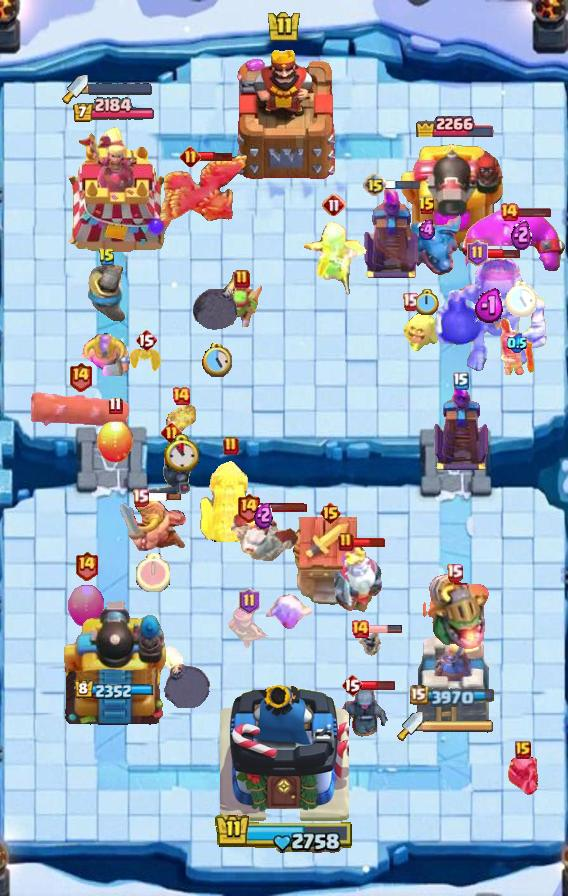archer: (226, 607, 272, 651)
bar: (258, 502, 308, 513), (385, 178, 422, 191), (516, 206, 552, 218), (361, 679, 396, 691), (485, 248, 521, 259), (198, 151, 234, 162), (352, 537, 386, 548), (367, 624, 403, 634), (146, 492, 182, 502)
bar-level: (74, 550, 99, 581), (236, 492, 261, 523), (68, 361, 93, 392), (322, 193, 346, 217), (363, 173, 387, 197), (319, 501, 342, 525), (239, 588, 260, 614), (467, 240, 488, 266), (341, 673, 363, 697), (135, 328, 157, 352), (161, 422, 182, 443), (180, 146, 201, 167), (350, 619, 370, 639), (171, 386, 191, 406), (499, 202, 519, 222), (98, 247, 116, 267), (418, 196, 436, 216), (446, 563, 463, 582), (132, 488, 149, 507), (402, 292, 419, 311), (338, 532, 354, 552), (223, 436, 239, 456), (234, 269, 250, 289), (515, 741, 531, 759), (453, 372, 469, 390), (108, 396, 123, 415)
bat: (129, 345, 163, 373)
bomb: (159, 646, 211, 708), (192, 270, 243, 332)
cannoneer-tower: (58, 595, 170, 731), (399, 138, 507, 256)
clock: (164, 434, 199, 472), (136, 553, 170, 592), (505, 281, 537, 317), (202, 343, 232, 377), (416, 289, 439, 315)
dagger-duchess-tower: (55, 126, 173, 256), (414, 623, 492, 731)
dagger-duchess-tower-bar: (423, 719, 495, 733), (88, 83, 152, 95)
electro-dragon: (388, 212, 466, 276)
elite-barbarian: (118, 495, 188, 553), (81, 333, 130, 376)
elixir: (474, 288, 506, 324), (511, 218, 532, 250), (254, 501, 273, 529), (417, 219, 438, 241), (507, 333, 527, 353)
guard: (498, 318, 536, 380)
heal-spirit: (400, 307, 440, 351)
ice-spirit-evolution: (266, 593, 316, 631)
king-tower: (220, 678, 349, 826), (229, 43, 339, 181)
king-tower-bar: (215, 813, 354, 854)
knight: (88, 265, 127, 323)
lava-pup: (164, 405, 198, 433)
mini-pekka: (336, 685, 394, 753), (146, 447, 196, 501), (505, 754, 541, 798)
phoenix-egg: (66, 584, 106, 628), (95, 420, 135, 464)
royal-ghost: (332, 546, 384, 614)
skeleton: (357, 628, 383, 658)
spear-goblin: (221, 280, 263, 332)
tesla: (200, 458, 262, 542)
the-log: (29, 387, 131, 431)
tower-bar: (72, 97, 156, 124), (413, 110, 494, 137), (410, 685, 497, 707), (74, 680, 154, 701)
